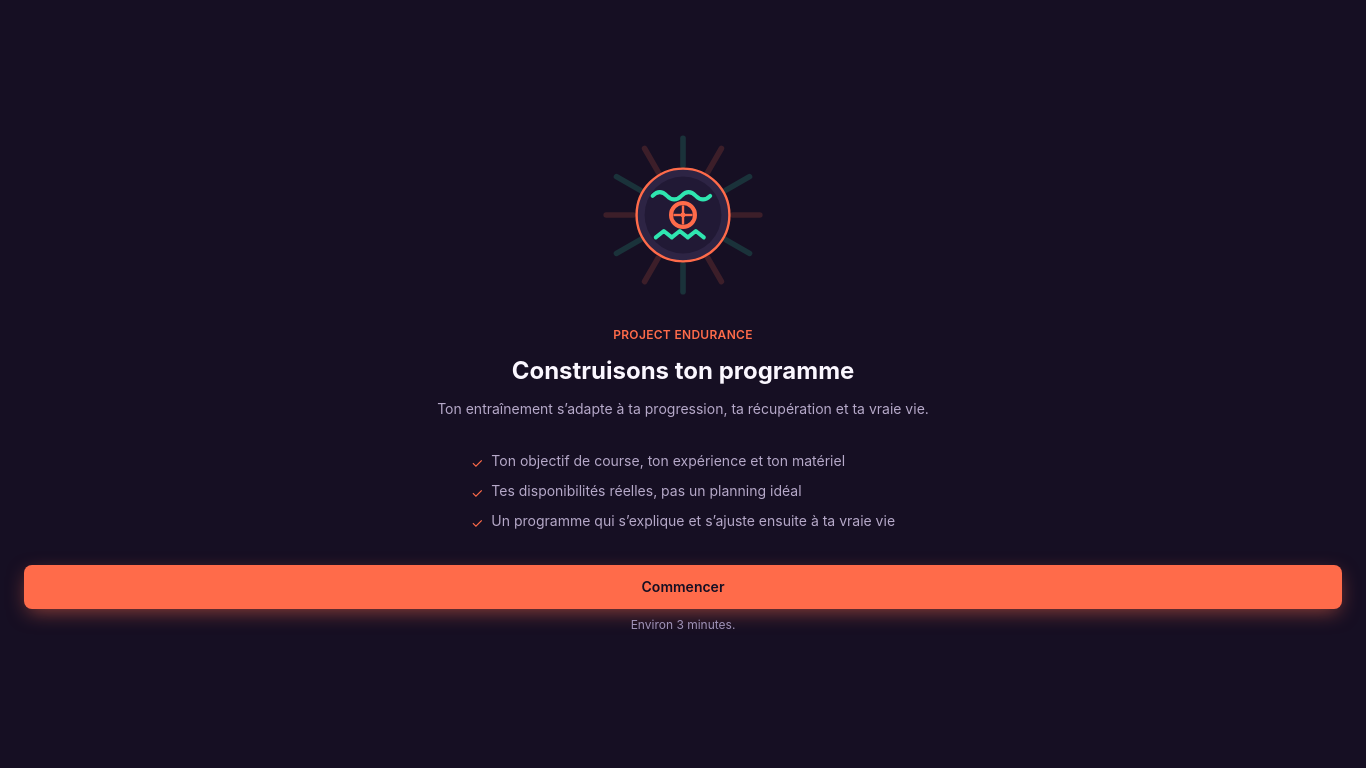
OnboardingPage › walks a full happy path and persists the three domain aggregates
Later steps or results of the test are not shown.
Click the button "Commencer": (683, 587) [24, 565, 1342, 609]
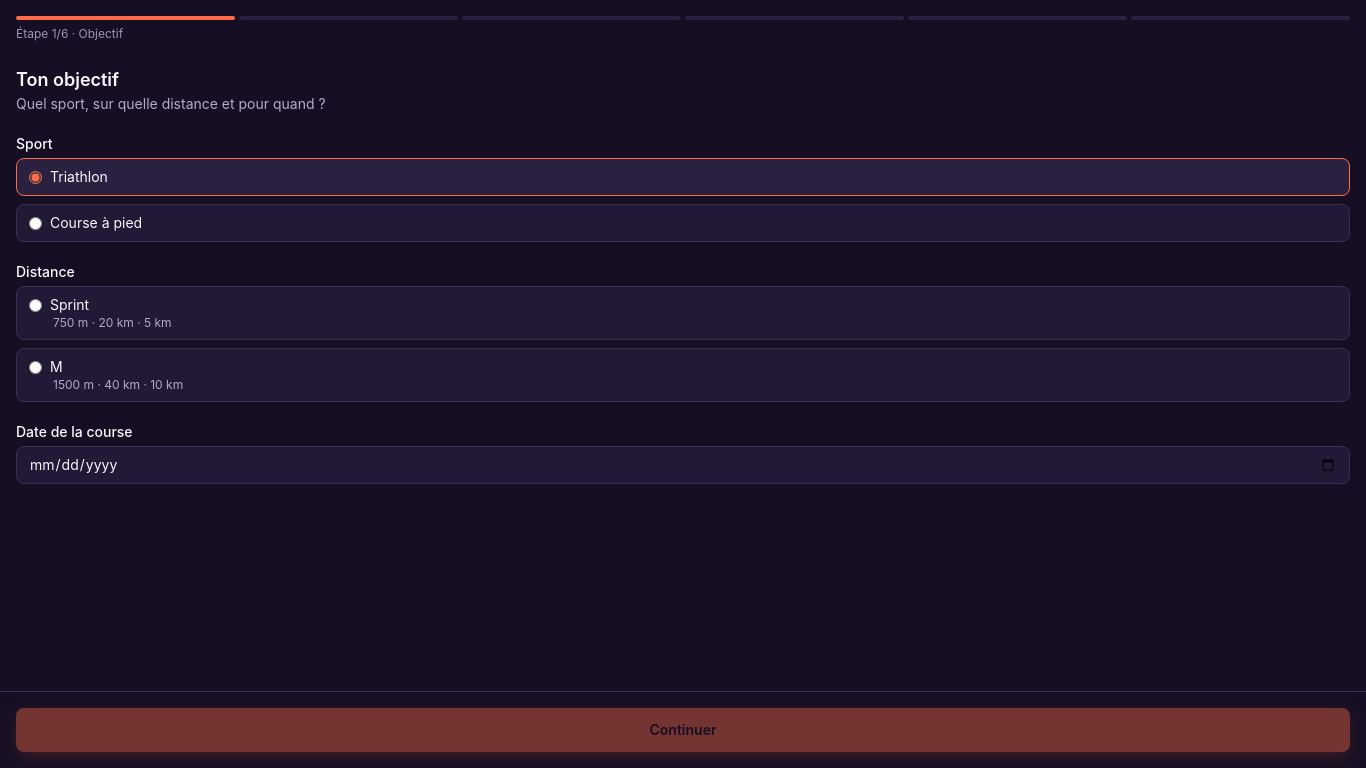
Click the radio button labelled "Sprint 750 m · 20 km · 5 km": (36, 305) [29, 298, 42, 312]
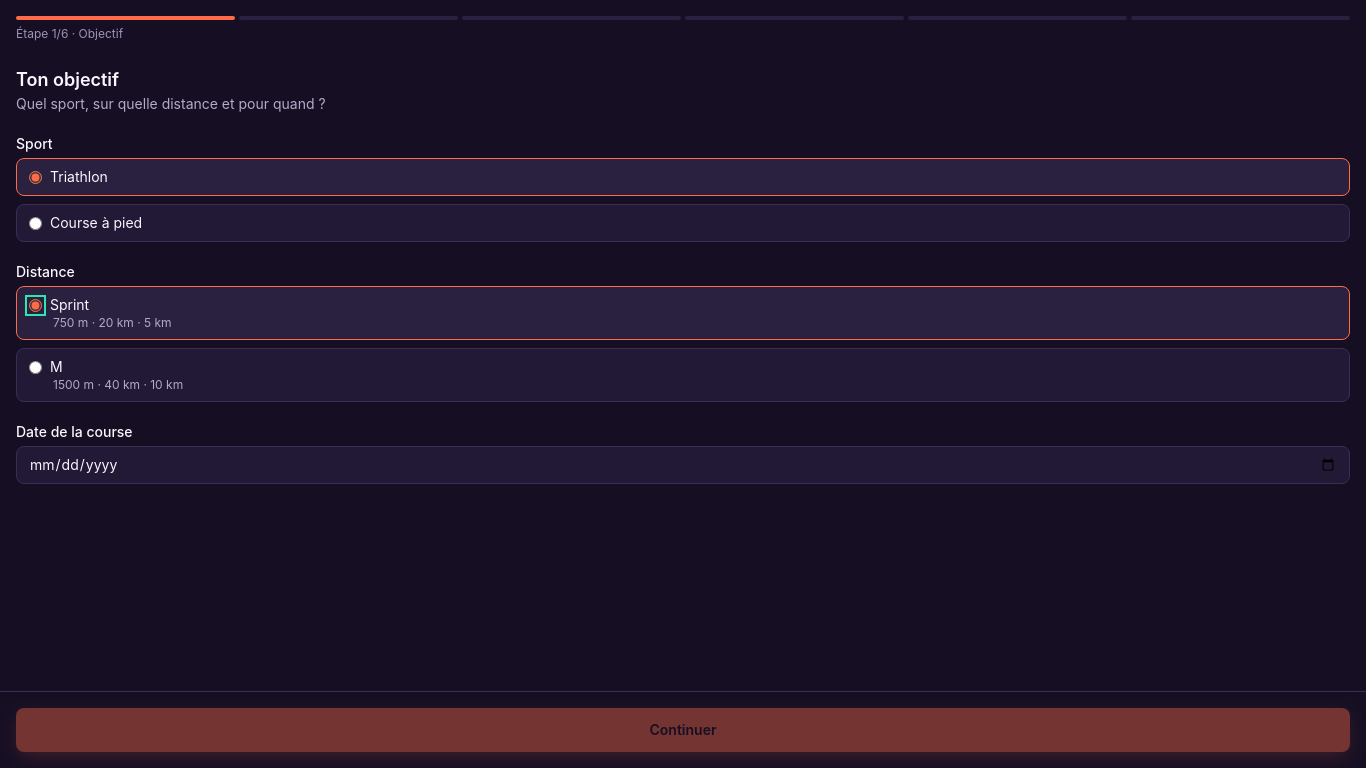
In the date field labelled "Date de la course": (683, 465) [16, 446, 1350, 484], type "2026-12-01"
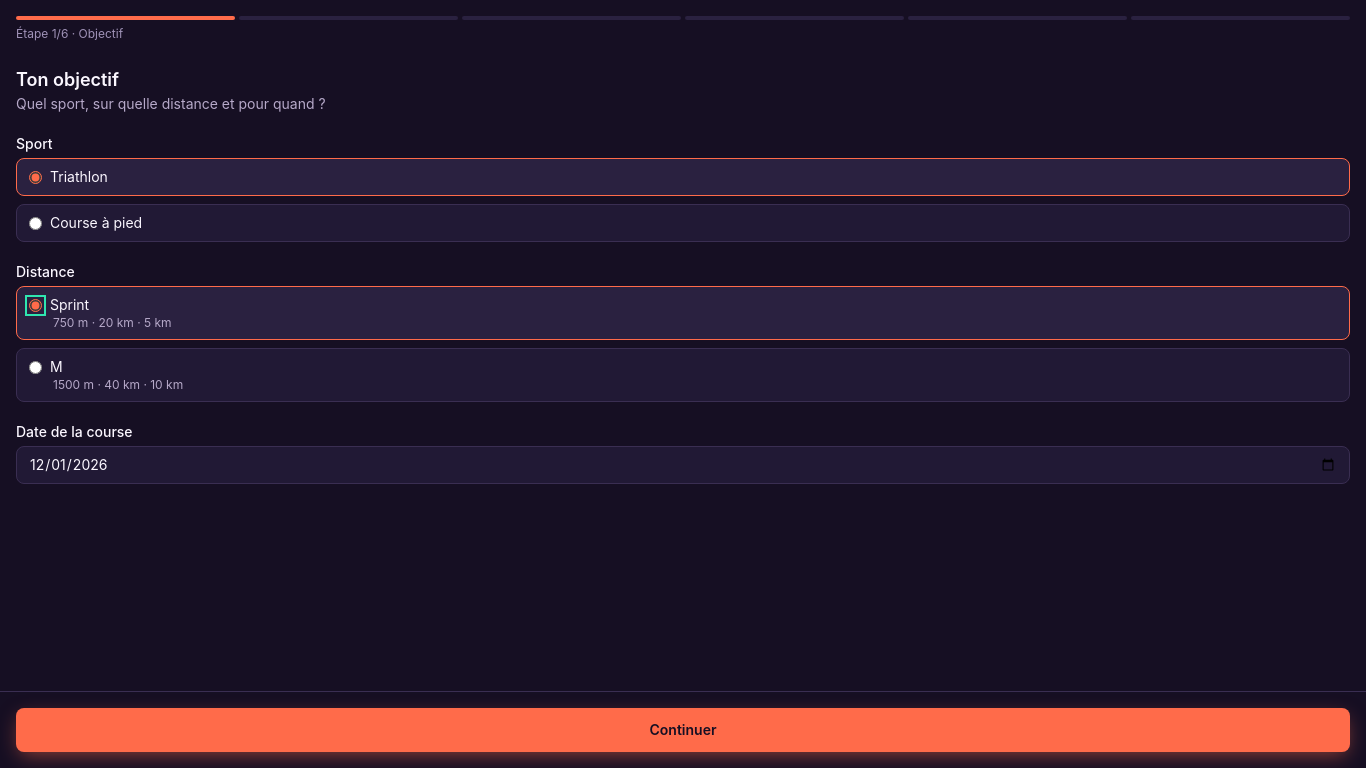
Click the button "Continuer": (683, 730) [16, 708, 1350, 752]
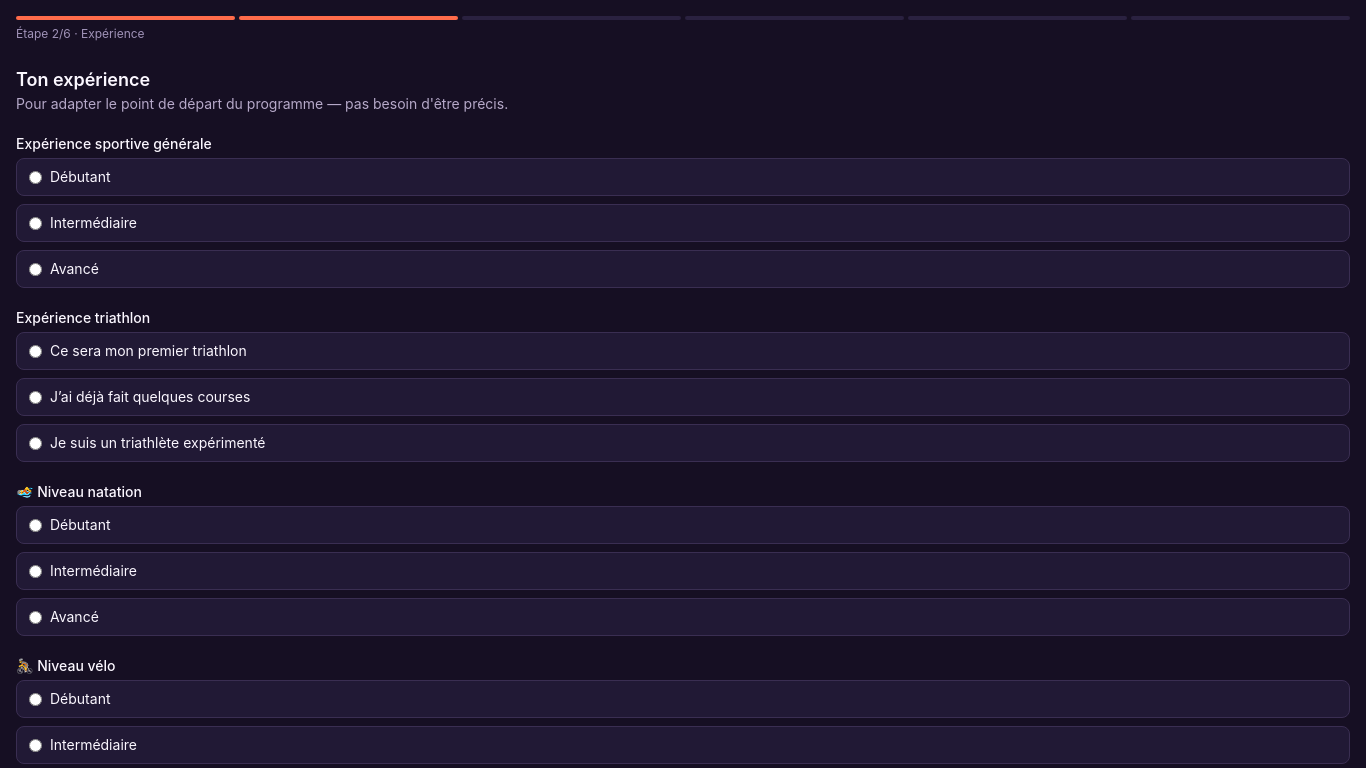
Result: the number of radio buttons labelled "Intermédiaire" is 4
